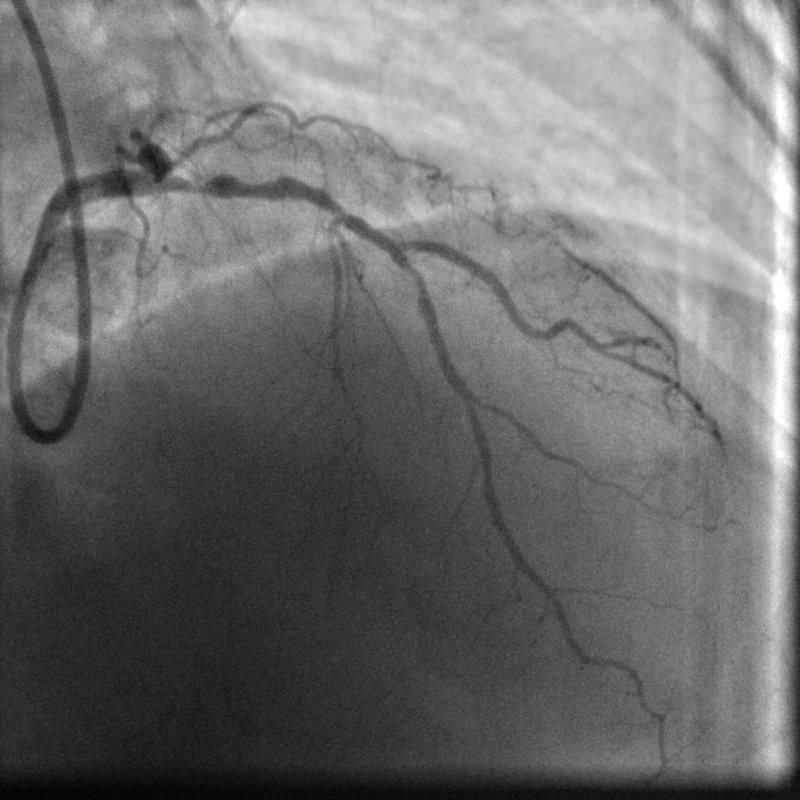Stenosis: (178, 161, 288, 199)
